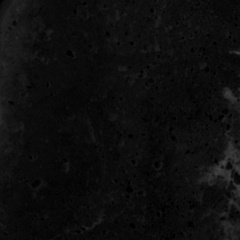Vegetation: (223, 142, 239, 167), (213, 161, 231, 180), (223, 88, 235, 99)
